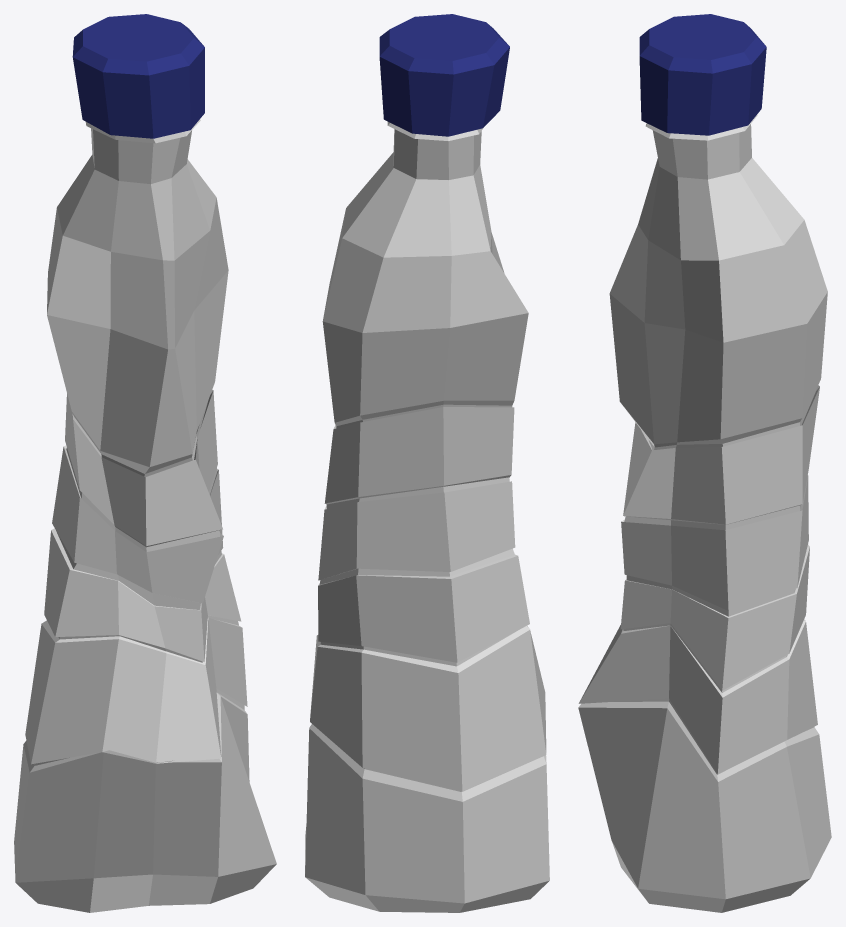
The model's file is Bottle.fbx.
The picture shows the model from 3 angles, left to right: view 1: azimuth 30°, elevation 25°; view 2: azimuth 150°, elevation 25°; view 3: azimuth 270°, elevation 25°; orthographic projection. The views are drawn at different scales.
Parts seen in each view (by area): view 1: Circle.009; view 2: Circle.009; view 3: Circle.009.
Boxes of the visible parts, x1,y1,x2,y2 form: Circle.009: (14, 14, 276, 912); Circle.009: (305, 14, 549, 912); Circle.009: (578, 14, 831, 912).
Bounding box in the file's own units: 47.22 × 160 × 44.38.
